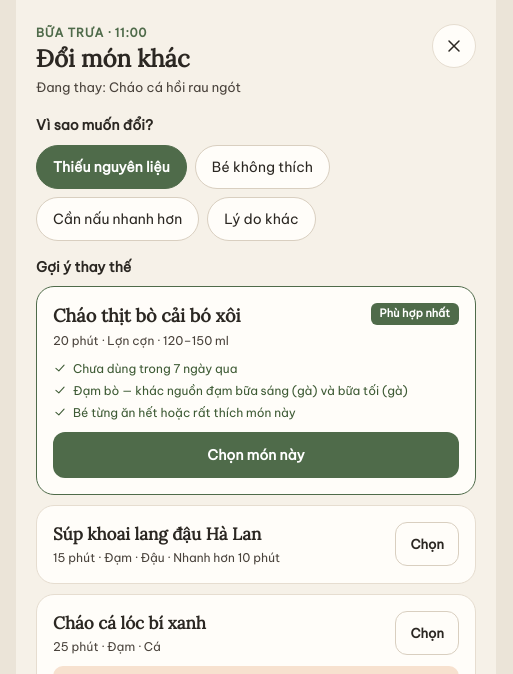
Test: Swap (S02) › TC-FAM-021 says another member changed the meal, and reloads
Step 1. Click the button "Chọn món này" → click(256, 455), box [53, 432, 459, 478]
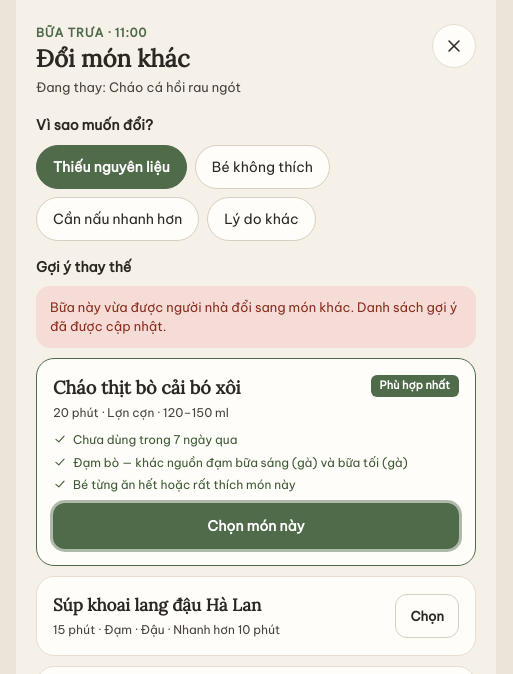
Now the text "vừa được người nhà đổi sang món khác" is shown, box [50, 299, 457, 334]
